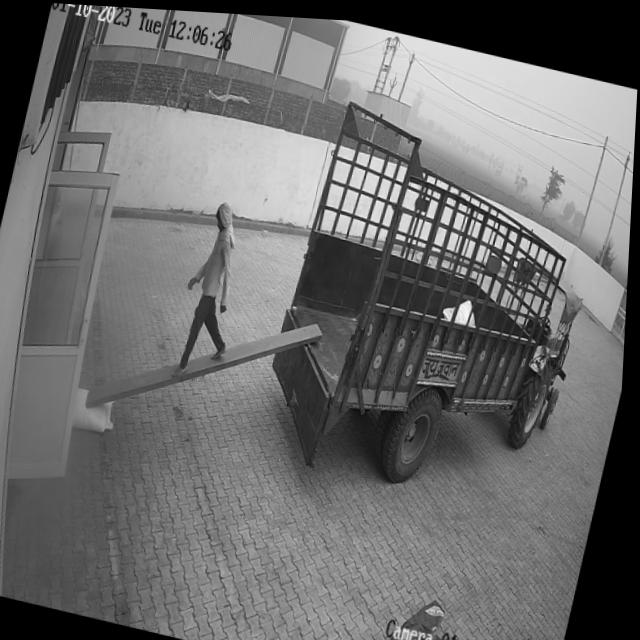sack: (73, 384, 124, 432)
